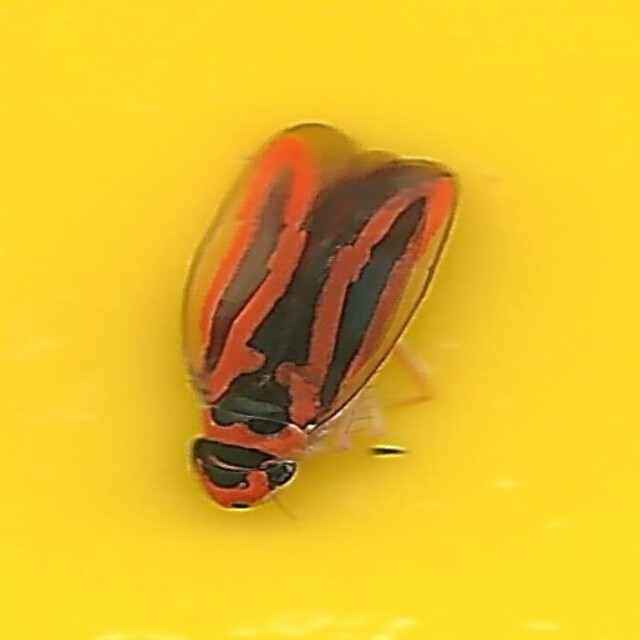Hemiptera: (181, 125, 459, 515)
